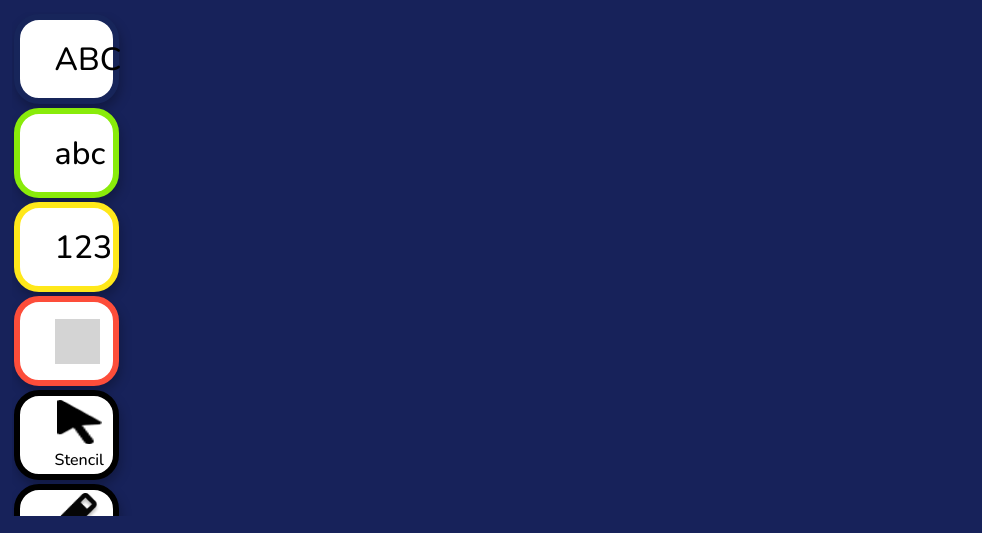
ControlBar component › shows options on click and hides when a different option is clicked
The image size is (982, 533).
Click the button "abc". click: (66, 153)
box: [14, 108, 119, 198]
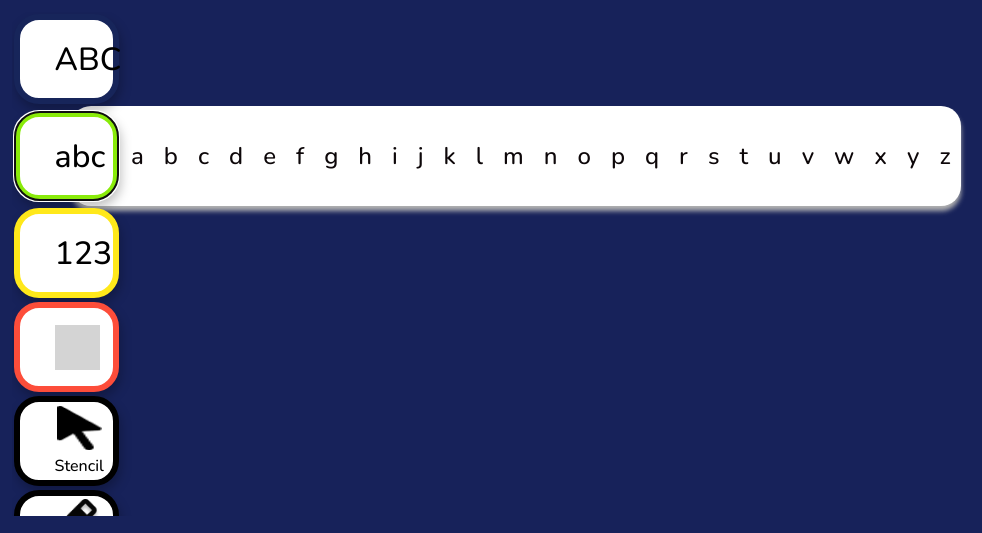
Expected: the element with test id "stencilOptions-lowerCase" is shown, [71, 106, 961, 206]
Click the button "123". click: (66, 253)
box: [14, 208, 119, 298]
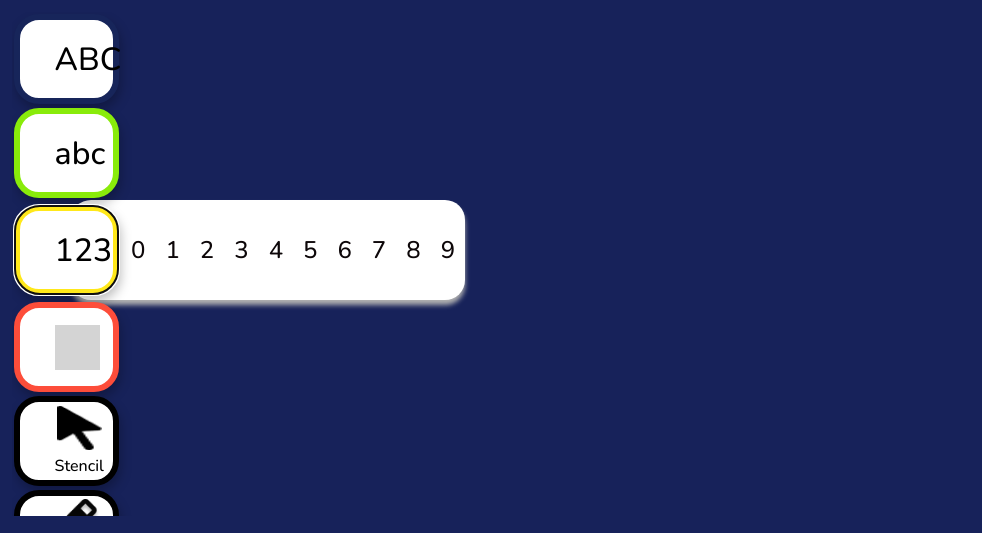
Expected: the element with test id "stencilOptions-lowerCase" is gone
Expected: the element with test id "stencilOptions-numbers" is shown, [71, 200, 465, 300]
